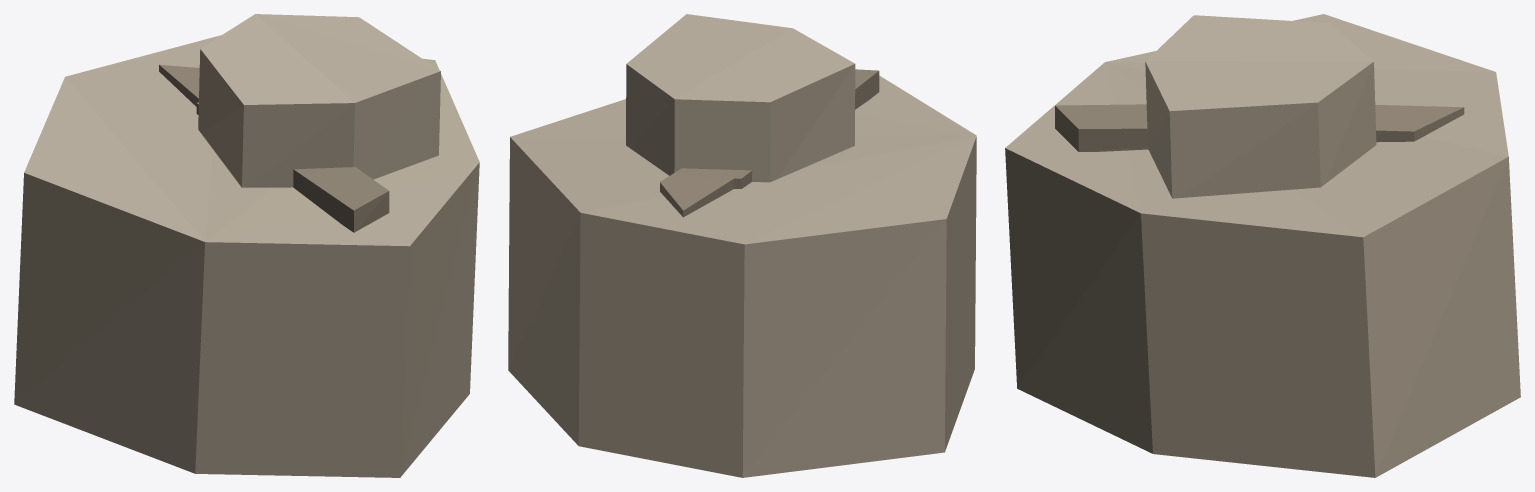
Rendered from rock.ledge__outcrop__spring.glb.
3 views of the same model, side by side, from view 1: azimuth 30°, elevation 25°; view 2: azimuth 150°, elevation 25°; view 3: azimuth 270°, elevation 25° (orthographic). The views are drawn at different scales.
Parts seen in each view (by area): view 1: rock.ledge; view 2: rock.ledge; view 3: rock.ledge.
Boxes of the visible parts, left/top/right/bottom form: rock.ledge: left=14, top=14, right=479, bottom=477; rock.ledge: left=508, top=14, right=976, bottom=477; rock.ledge: left=1005, top=14, right=1520, bottom=477.
Size of the model in its own units: 3.09 by 2.25 by 3.08.
